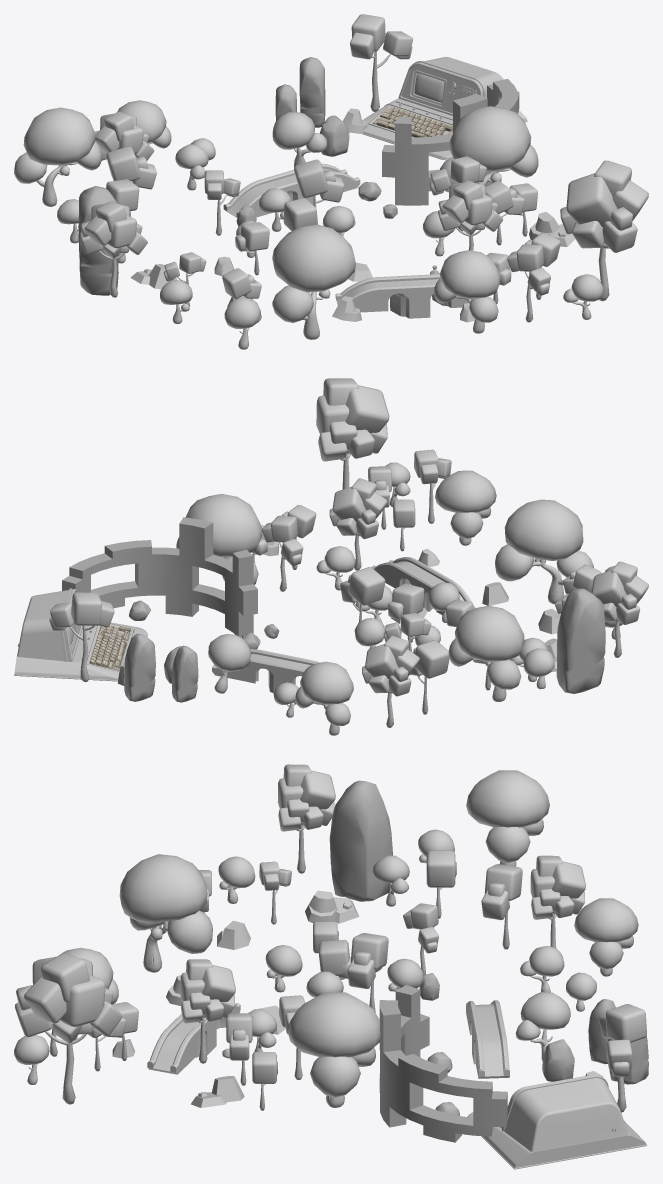
File: Forest_NoPlain.fbx
3 views of the same model, one above another, from view 1: azimuth 30°, elevation 25°; view 2: azimuth 150°, elevation 25°; view 3: azimuth 270°, elevation 25° (orthographic). The views are drawn at different scales.
Visible parts, largest first — view 1: Tree_1_C_Color1, Tree_2_D_Color1.003, AncientRuins_Shell, Tree_1_C_Color1.002, Tree_1_C_Color1.001, Object_6, Tree_1_C_Color1.003, building_bridge_B, Tree_2_D_Color1.001, Tree_2_D_Color1, Tree_2_C_Color1.004, AncientRuins_Rock4.002 (+34 smaller); view 2: AncientRuins_Shell, Tree_1_C_Color1, Object_6, Tree_2_D_Color1.003, Tree_1_C_Color1.002, AncientRuins_Rock4.002, Tree_1_C_Color1.001, Tree_1_C_Color1.003, Tree_1_C_Color1.004, Tree_2_D_Color1, Tree_2_D_Color1.002, Tree_2_D_Color1.001 (+23 smaller); view 3: AncientRuins_Shell, Object_6, Tree_2_D_Color1.003, Tree_1_C_Color1, Tree_1_C_Color1.001, AncientRuins_Rock4.002, Tree_1_C_Color1.002, Tree_2_D_Color1.001, Tree_2_D_Color1, Tree_1_C_Color1.004, Tree_2_D_Color1.002, building_bridge_B.001 (+31 smaller).
Boxes of the visible parts, x1,y1,x2,y2 form: Tree_1_C_Color1: (272,224,355,339); Tree_2_D_Color1.003: (560,160,648,301); AncientRuins_Shell: (382,79,519,205); Tree_1_C_Color1.002: (14,107,101,206); Tree_1_C_Color1.001: (440,106,538,192); Object_6: (362,57,527,160); Tree_1_C_Color1.003: (434,250,500,333); building_bridge_B: (335,274,468,318); Tree_2_D_Color1.001: (79,201,147,297); Tree_2_D_Color1: (438,180,503,250); Tree_2_C_Color1.004: (350,14,412,111); AncientRuins_Rock4.002: (78,186,118,295); AncientRuins_Shell: (62,517,257,637); Tree_1_C_Color1: (495,499,593,604); Object_6: (14,588,147,681); Tree_2_D_Color1.003: (316,378,389,489); Tree_1_C_Color1.002: (448,606,524,701); AncientRuins_Rock4.002: (556,588,605,693); Tree_1_C_Color1.001: (176,494,262,584); Tree_1_C_Color1.003: (435,470,496,545); Tree_1_C_Color1.004: (295,661,353,735); Tree_2_D_Color1: (329,478,387,570); Tree_2_D_Color1.002: (362,635,419,727); Tree_2_D_Color1.001: (591,561,648,657); AncientRuins_Shell: (379,985,507,1142); Object_6: (467,1074,647,1169); Tree_2_D_Color1.003: (15,953,122,1104); Tree_1_C_Color1: (119,854,212,972); Tree_1_C_Color1.001: (288,992,380,1107); AncientRuins_Rock4.002: (329,780,392,901); Tree_1_C_Color1.002: (466,770,549,866); Tree_2_D_Color1.001: (277,764,335,873); Tree_2_D_Color1: (180,959,235,1063); Tree_1_C_Color1.004: (574,898,638,976); Tree_2_D_Color1.002: (530,855,585,948); building_bridge_B.001: (466,1000,509,1078).
Size of the model in its own units: 8660 by 2367 by 7989.
